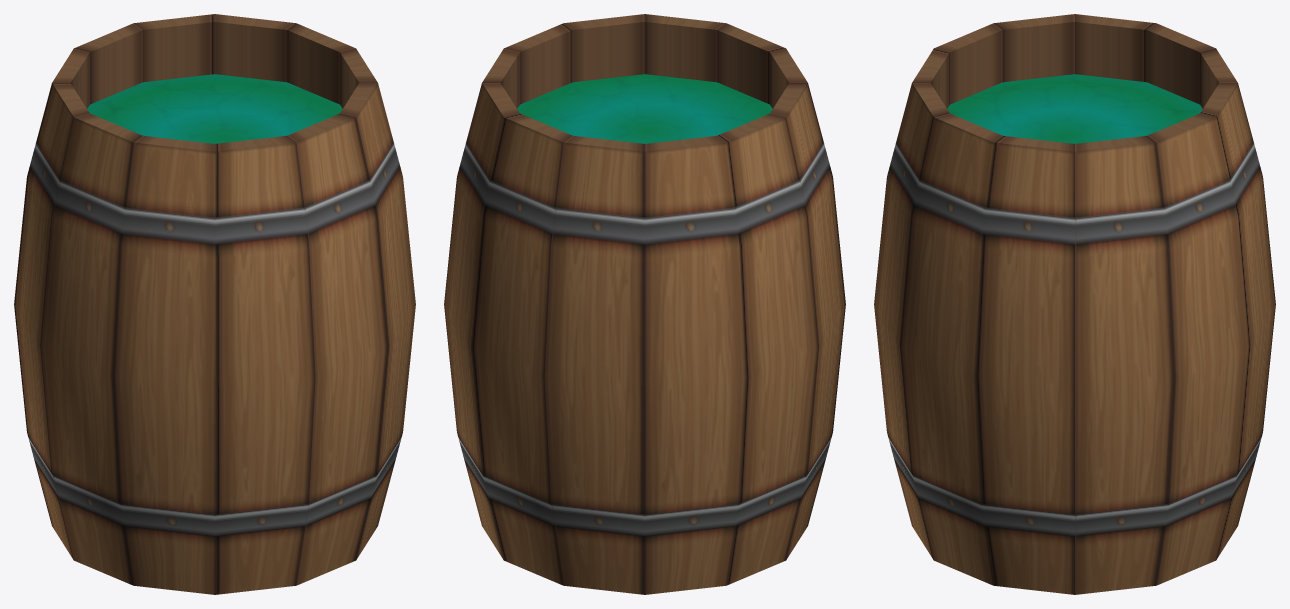
The model's file is Barrel_03.FBX.
The picture shows the model from 3 angles, left to right: view 1: azimuth 30°, elevation 25°; view 2: azimuth 150°, elevation 25°; view 3: azimuth 270°, elevation 25°; orthographic projection.
Parts seen in each view (by area): view 1: Barrel_02; view 2: Barrel_02; view 3: Barrel_02.
Boxes of the visible parts, x1,y1,x2,y2 form: Barrel_02: [14, 14, 415, 594]; Barrel_02: [444, 14, 845, 594]; Barrel_02: [874, 14, 1275, 594].
Size of the model in its own units: 0.8666 by 1.05 by 0.8666.
